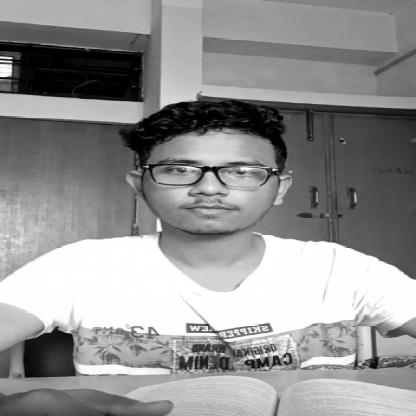Normal: (135, 125, 303, 241)
